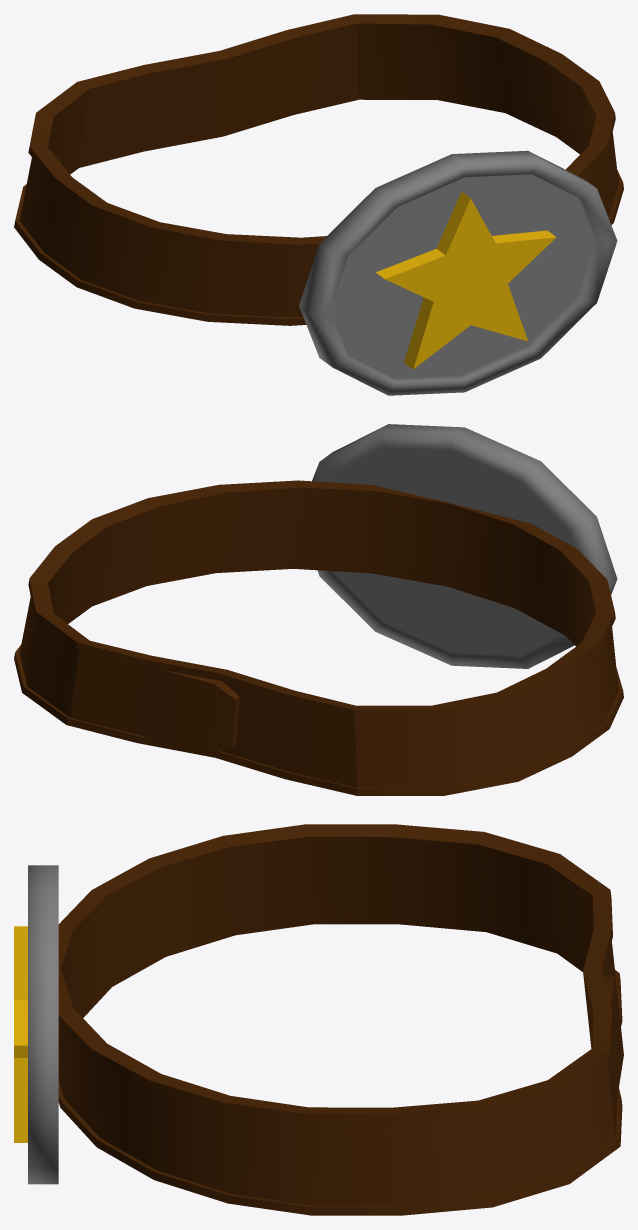
File: CU_CowboyBelt 1.fbx
3 renders of one model, top to bottom at view 1: azimuth 30°, elevation 25°; view 2: azimuth 150°, elevation 25°; view 3: azimuth 270°, elevation 25°, orthographic. The views are drawn at different scales.
Parts seen in each view (by area): view 1: CowboyBeltBase, CowboyBuckle, BeltStar; view 2: CowboyBeltBase, CowboyBuckle; view 3: CowboyBeltBase, CowboyBuckle, BeltStar.
Part boxes in pixels (x1,y1,x2,y2): CowboyBeltBase: (14,14,623,325); CowboyBuckle: (299,150,617,395); BeltStar: (376,191,556,369); CowboyBeltBase: (14,480,623,795); CowboyBuckle: (312,424,617,668); CowboyBeltBase: (58,824,623,1215); CowboyBuckle: (28,865,58,1184); BeltStar: (14,926,27,1142).
Size of the model in its own units: 165 by 67.71 by 140.
